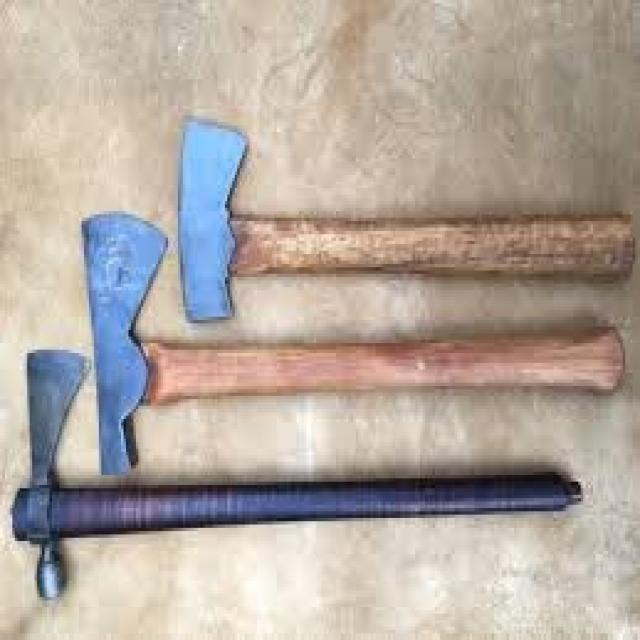hammer: (1, 340, 582, 607), (79, 206, 640, 480)
